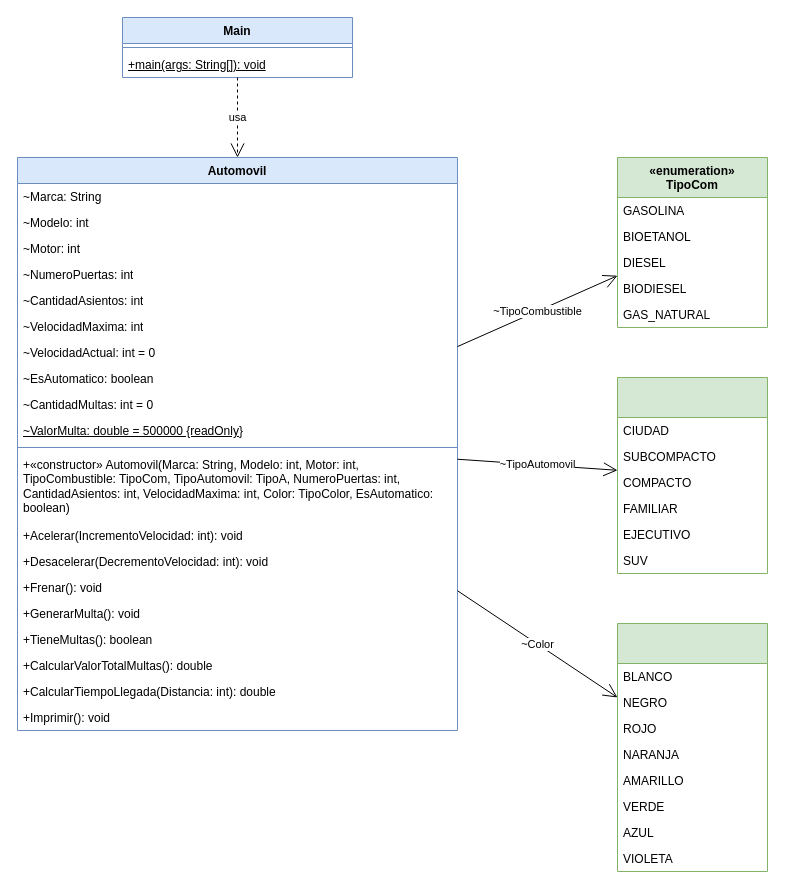
The diagram is 785 pixels wide and 892 high, and some of its shapes have lost their labels. The box of each missing label's shape, as (x1, y1, x2, y2) in pixels:
«enumeration» TipoA: (616, 376, 768, 574)
«enumeration» TipoColor: (616, 622, 768, 872)
